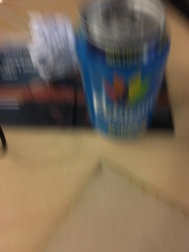can_blue: (71, 4, 176, 154)
